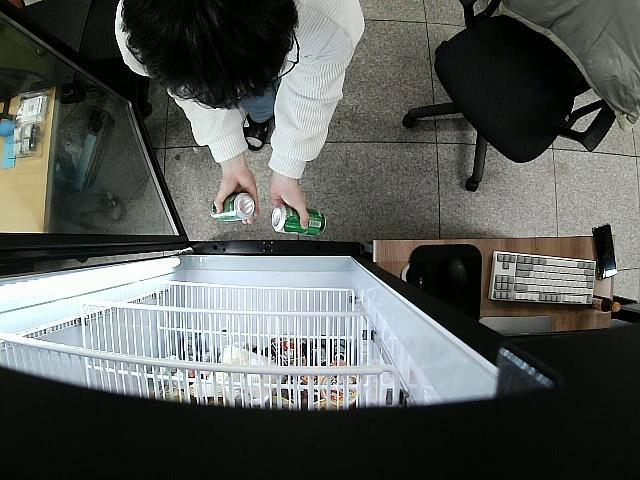12_chilsungCider: (270, 205, 328, 240), (210, 192, 255, 222)
